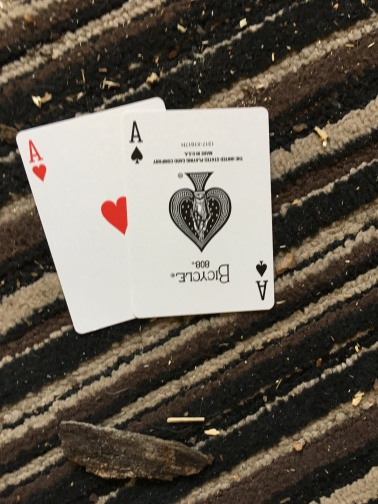ace: (122, 110, 276, 312), (15, 122, 130, 333)
